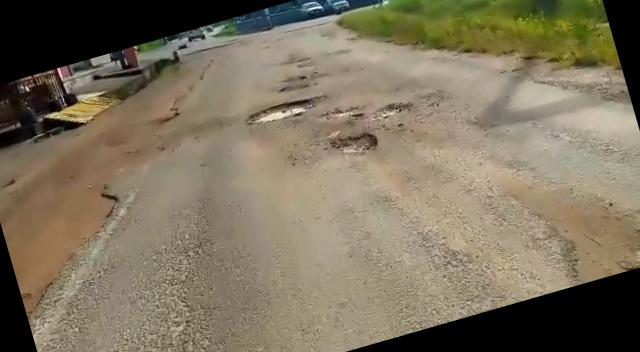pothole: (242, 91, 324, 132), (329, 126, 383, 163), (368, 95, 414, 125), (321, 102, 365, 126), (278, 68, 319, 90)
